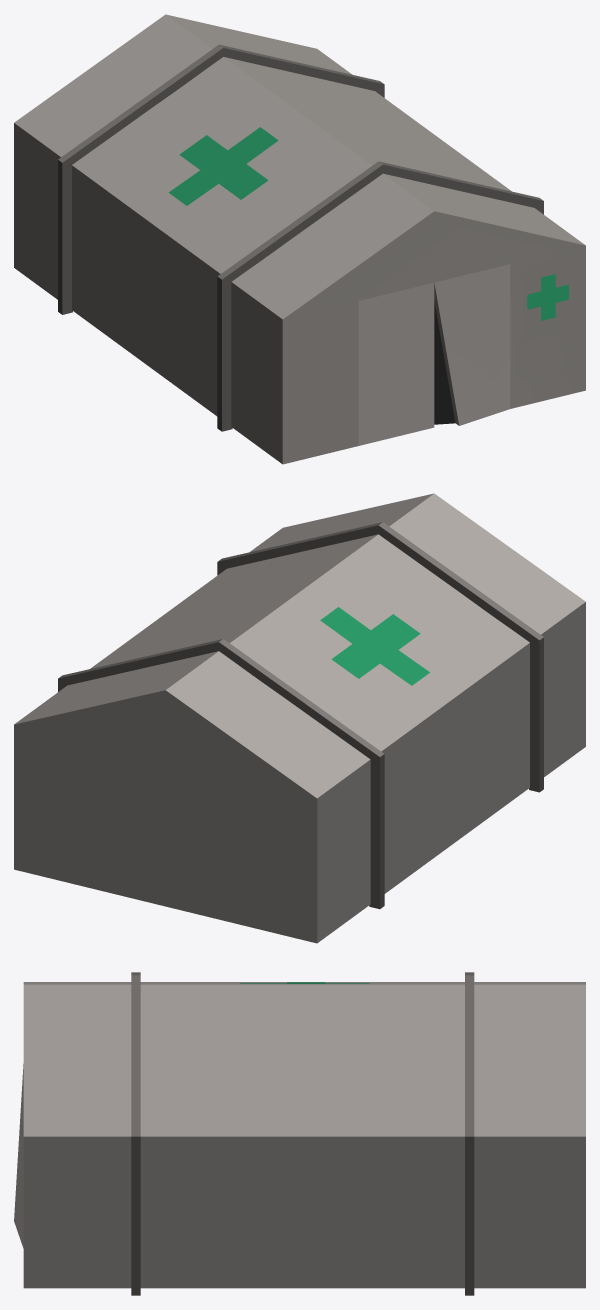
Rendered from SA_Bld_BioTentMedical_01.fbx.
3 renders of one model, top to bottom at view 1: azimuth 30°, elevation 25°; view 2: azimuth 150°, elevation 25°; view 3: azimuth 270°, elevation 25°, orthographic. The views are drawn at different scales.
Visible parts, largest first — view 1: SA_Bld_BioTentMedical_01; view 2: SA_Bld_BioTentMedical_01; view 3: SA_Bld_BioTentMedical_01.
Boxes of the visible parts, box(x1,y1,x2,y2) form: SA_Bld_BioTentMedical_01: box(14, 14, 585, 464); SA_Bld_BioTentMedical_01: box(14, 493, 585, 943); SA_Bld_BioTentMedical_01: box(14, 972, 585, 1295).
Size of the model in its own units: 8.98 by 6.07 by 13.21.
